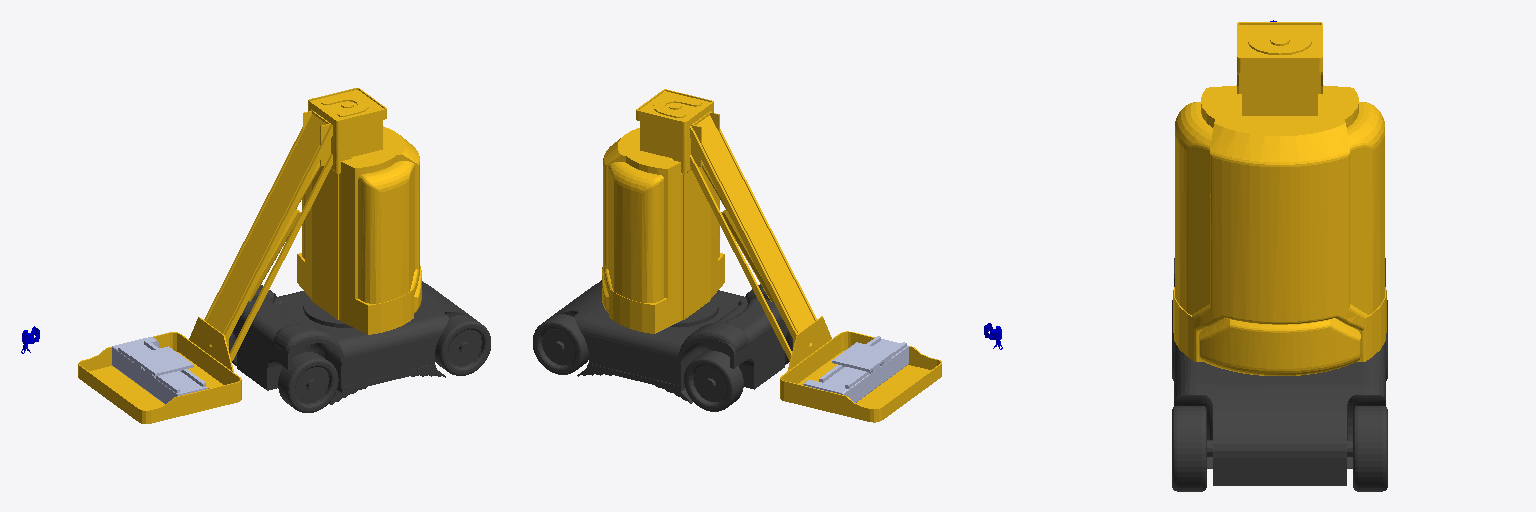
The robot description file, URDF, robot "haullot_start_10":
<?xml version="1.0" encoding="utf-8"?>
<!-- This URDF was automatically created by SolidWorks to URDF Exporter! Originally created by [author] ([email redacted]) 
     Commit Version: 1.6.0-1-g15f4949  Build Version: 1.6.7594.29634
     For more information, please see http://wiki.ros.org/sw_urdf_exporter -->
<robot
  name="haullot_start_10">

<link name="world"/>

<joint
  name="Haullot_start_10_base_link_to_world"
  type="fixed">
  <origin
  xyz="0 0 0.310"
  rpy="1.57079 0 0" />
  <parent
    link="world"/>
  <child
    link="Haullot_start_10_base_link" />
</joint>

<!-- haullot_start_10-->
  <link
    name="Haullot_start_10_base_link">
    <inertial>
      <origin
        xyz="-0.1030630592225 -0.0376347811106098 -0.0421478849065606"
        rpy="0 0 0" />
      <mass
        value="4089.54519378538" />
      <inertia
        ixx="368.031864433595"
        ixy="43.6324734735924"
        ixz="2.94720355246527E-05"
        iyy="1098.47527598676"
        iyz="0.000116486745065062"
        izz="850.867727063988" />
    </inertial>
    <visual>
      <origin
        xyz="0 0 0"
        rpy="0 0 0" />
      <geometry>
        <mesh
          filename="package://haullot_start_10/meshes/Haullot_start_10_base_link.STL" />
      </geometry>
      <material
        name="">
        <color
          rgba="0.298039215686275 0.298039215686275 0.298039215686275 1" />
      </material>
    </visual>
    <collision>
      <origin
        xyz="0 0 0"
        rpy="0 0 0" />
      <geometry>
        <mesh
          filename="package://haullot_start_10/meshes/Haullot_start_10_base_link.STL" />
      </geometry>
    </collision>
  </link>
  <link
    name="Haullot_start_10_rotate_link">
    <inertial>
      <origin
        xyz="0.0622903491933562 0.591502691568246 -5.42612107509721E-07"
        rpy="0 0 0" />
      <mass
        value="4878.86800121507" />
      <inertia
        ixx="826.739753413383"
        ixy="-21.4808409970725"
        ixz="-6.65078087842398E-06"
        iyy="419.339592982064"
        iyz="0.0010799572962618"
        izz="662.937941862686" />
    </inertial>
    <visual>
      <origin
        xyz="0 0 0"
        rpy="0 0 0" />
      <geometry>
        <mesh
          filename="package://haullot_start_10/meshes/Haullot_start_10_rotate_link.STL" />
      </geometry>
      <material
        name="">
        <color
          rgba="1 0.784313725490196 0.133333333333333 1" />
      </material>
    </visual>
    <collision>
      <origin
        xyz="0 0 0"
        rpy="0 0 0" />
      <geometry>
        <mesh
          filename="package://haullot_start_10/meshes/Haullot_start_10_rotate_link.STL" />
      </geometry>
    </collision>
  </link>
  <joint
    name="Haullot_start_10_rotate_joint"
    type="continuous">
    <origin
      xyz="-0.0616024152192241 0.169468785515102 -0.0421478782866078"
      rpy="0 0 0" />
    <parent
      link="Haullot_start_10_base_link" />
    <child
      link="Haullot_start_10_rotate_link" />
    <axis
      xyz="0 1 0" />
    <limit
      lower="-3.1416"
      upper="3.1416"
      effort="0"
      velocity="0" />
  </joint>
  <link
    name="Haullot_start_10_lift_link_1">
    <inertial>
      <origin
        xyz="-3.05730440963714E-12 0.749999999999854 -1.77496906061947E-14"
        rpy="0 0 0" />
      <mass
        value="150.8352" />
      <inertia
        ixx="30.8583680000001"
        ixy="-2.80972202165283E-14"
        ixz="2.81856452577671E-15"
        iyy="5.15353600000001"
        iyz="6.78174074291001E-14"
        izz="30.8583680000001" />
    </inertial>
    <visual>
      <origin
        xyz="0 0 0"
        rpy="0 0 0" />
      <geometry>
        <mesh
          filename="package://haullot_start_10/meshes/Haullot_start_10_lift_link_1.STL" />
      </geometry>
      <material
        name="">
        <color
          rgba="0.666666666666667 0.666666666666667 0.666666666666667 1" />
      </material>
    </visual>
    <collision>
      <origin
        xyz="0 0 0"
        rpy="0 0 0" />
      <geometry>
        <mesh
          filename="package://haullot_start_10/meshes/Haullot_start_10_lift_link_1.STL" />
      </geometry>
    </collision>
  </link>
  <joint
    name="Haullot_start_10_lift_joint_1"
    type="prismatic">
    <origin
      xyz="-0.0665001010517699 -0.00999999999985349 0"
      rpy="0 0 0" />
    <parent
      link="Haullot_start_10_rotate_link" />
    <child
      link="Haullot_start_10_lift_link_1" />
    <axis
      xyz="0 1 0" />
    <limit
      lower="0"
      upper="0.95"
      effort="0"
      velocity="0" />
  </joint>
  <link
    name="Haullot_start_10_lift_link_2">
    <inertial>
      <origin
        xyz="-3.94356769461979E-12 0.749999999999856 3.01494940124769E-14"
        rpy="0 0 0" />
      <mass
        value="127.2672" />
      <inertia
        ixx="25.4110176"
        ixy="-4.12954444879209E-14"
        ixz="1.48431201210719E-15"
        iyy="3.0968352"
        iyz="6.26089868799169E-14"
        izz="25.4110176" />
    </inertial>
    <visual>
      <origin
        xyz="0 0 0"
        rpy="0 0 0" />
      <geometry>
        <mesh
          filename="package://haullot_start_10/meshes/Haullot_start_10_lift_link_2.STL" />
      </geometry>
      <material
        name="">
        <color
          rgba="0.666666666666667 0.666666666666667 0.666666666666667 1" />
      </material>
    </visual>
    <collision>
      <origin
        xyz="0 0 0"
        rpy="0 0 0" />
      <geometry>
        <mesh
          filename="package://haullot_start_10/meshes/Haullot_start_10_lift_link_2.STL" />
      </geometry>
    </collision>
  </link>
  <joint
    name="Haullot_start_10_lift_joint_2"
    type="prismatic">
    <origin
      xyz="0 0 0"
      rpy="0 0 0" />
    <parent
      link="Haullot_start_10_lift_link_1" />
    <child
      link="Haullot_start_10_lift_link_2" />
    <axis
      xyz="0 1 0" />
    <limit
      lower="0"
      upper="0.95"
      effort="0"
      velocity="0" />
  </joint>
  <link
    name="Haullot_start_10_lift_link_3">
    <inertial>
      <origin
        xyz="-5.41863776071239E-12 0.749999999999842 5.42205169651311E-14"
        rpy="0 0 0" />
      <mass
        value="103.6992" />
      <inertia
        ixx="20.2818352"
        ixy="-3.29677594864076E-14"
        ixz="2.94182956951664E-17"
        iyy="1.6764704"
        iyz="4.2625326915756E-14"
        izz="20.2818352" />
    </inertial>
    <visual>
      <origin
        xyz="0 0 0"
        rpy="0 0 0" />
      <geometry>
        <mesh
          filename="package://haullot_start_10/meshes/Haullot_start_10_lift_link_3.STL" />
      </geometry>
      <material
        name="">
        <color
          rgba="0.666666666666667 0.666666666666667 0.666666666666667 1" />
      </material>
    </visual>
    <collision>
      <origin
        xyz="0 0 0"
        rpy="0 0 0" />
      <geometry>
        <mesh
          filename="package://haullot_start_10/meshes/Haullot_start_10_lift_link_3.STL" />
      </geometry>
    </collision>
  </link>
  <joint
    name="Haullot_start_10_lift_joint_3"
    type="prismatic">
    <origin
      xyz="0 0 0"
      rpy="0 0 0" />
    <parent
      link="Haullot_start_10_lift_link_2" />
    <child
      link="Haullot_start_10_lift_link_3" />
    <axis
      xyz="0 1 0" />
    <limit
      lower="0"
      upper="0.95"
      effort="0"
      velocity="0" />
  </joint>
  <link
    name="Haullot_start_10_lift_link_4">
    <inertial>
      <origin
        xyz="-1.72084568816899E-15 0.749999999999999 -1.65145674912992E-15"
        rpy="0 0 0" />
      <mass
        value="80.1312" />
      <inertia
        ixx="15.4119008"
        ixy="3.21993915651729E-14"
        ixz="5.97746071695298E-17"
        iyy="0.774601599999999"
        iyz="3.2586199130364E-14"
        izz="15.4119008" />
    </inertial>
    <visual>
      <origin
        xyz="0 0 0"
        rpy="0 0 0" />
      <geometry>
        <mesh
          filename="package://haullot_start_10/meshes/Haullot_start_10_lift_link_4.STL" />
      </geometry>
      <material
        name="">
        <color
          rgba="0.666666666666667 0.666666666666667 0.666666666666667 1" />
      </material>
    </visual>
    <collision>
      <origin
        xyz="0 0 0"
        rpy="0 0 0" />
      <geometry>
        <mesh
          filename="package://haullot_start_10/meshes/Haullot_start_10_lift_link_4.STL" />
      </geometry>
    </collision>
  </link>
  <joint
    name="Haullot_start_10_lift_joint_4"
    type="prismatic">
    <origin
      xyz="0 0 0"
      rpy="0 0 0" />
    <parent
      link="Haullot_start_10_lift_link_3" />
    <child
      link="Haullot_start_10_lift_link_4" />
    <axis
      xyz="0 1 0" />
    <limit
      lower="0"
      upper="0.95"
      effort="0"
      velocity="0" />
  </joint>
  <link
    name="Haullot_start_10_loading_device">
    <inertial>
      <origin
        xyz="0.676066587615475 0.706783134841028 9.24589964798606E-08"
        rpy="0 0 0" />
      <mass
        value="421.499820519036" />
      <inertia
        ixx="181.385447789709"
        ixy="-128.349054222057"
        ixz="-2.47209782798231E-05"
        iyy="125.946602914178"
        iyz="-2.92355053794222E-05"
        izz="277.914039031505" />
    </inertial>
    <visual>
      <origin
        xyz="0 0 0"
        rpy="0 0 0" />
      <geometry>
        <mesh
          filename="package://haullot_start_10/meshes/Haullot_start_10_loading_device.STL" />
      </geometry>
      <material
        name="">
        <color
          rgba="1 0.784313725490196 0.133333333333333 1" />
      </material>
    </visual>
    <collision>
      <origin
        xyz="0 0 0"
        rpy="0 0 0" />
      <geometry>
        <mesh
          filename="package://haullot_start_10/meshes/Haullot_start_10_loading_device.STL" />
      </geometry>
    </collision>
  </link>
  <joint
    name="Haullot_start_10_loading_device_fix_joint"
    type="fixed">
    <origin
      xyz="-1.4729533420782 -0.255610438701392 0"
      rpy="0 0 0" />
    <parent
      link="Haullot_start_10_lift_link_4" />
    <child
      link="Haullot_start_10_loading_device" />
    <axis
      xyz="0 0 0" />
  </joint>
<!-- haullot_start_10 end -->

<joint
name="Haullot_start_10_loading_device_to_guide_rail"
type="fixed">
<origin
  xyz="0 0 0.02"
  rpy="0 -1.57079 0" />
<parent
  link="Haullot_start_10_loading_device" />
<child
  link="guide_rail_base_link" />
<axis
  xyz="0 0 0" />
</joint>

<!-- guide rail -->
<link
    name="guide_rail_base_link">
    <inertial>
      <origin
        xyz="-0.030425 0.077875 -0.0058412"
        rpy="0 0 0" />
      <mass
        value="33.989" />
      <inertia
        ixx="0.22428"
        ixy="-1.3416E-17"
        ixz="-3.2573E-18"
        iyy="1.621"
        iyz="8.3194E-19"
        izz="1.5184" />
    </inertial>
    <visual>
      <origin
        xyz="0 0 0"
        rpy="0 0 0" />
      <geometry>
        <mesh
          filename="package://haullot_start_10/meshes/guide_rail_base_link.STL" />
      </geometry>
      <material
        name="">
        <color
          rgba="0.79216 0.81961 0.93333 1" />
      </material>
    </visual>
    <collision>
      <origin
        xyz="0 0 0"
        rpy="0 0 0" />
      <geometry>
        <mesh
          filename="package://haullot_start_10/meshes/guide_rail_base_link.STL" />
      </geometry>
    </collision>
  </link>
  <link
    name="guide_rail_Link">
    <inertial>
      <origin
        xyz="1.7347E-18 -0.016966 2.8936E-18"
        rpy="0 0 0" />
      <mass
        value="2.9064" />
      <inertia
        ixx="0.016095"
        ixy="1.6922E-20"
        ixz="1.9079E-18"
        iyy="0.036256"
        iyz="2.3031E-20"
        izz="0.020446" />
    </inertial>
    <visual>
      <origin
        xyz="0 0 0"
        rpy="0 0 0" />
      <geometry>
        <mesh
          filename="package://haullot_start_10/meshes/guide_rail_Link.STL" />
      </geometry>
      <material
        name="">
        <color
          rgba="0.79216 0.81961 0.93333 1" />
      </material>
    </visual>
    <collision>
      <origin
        xyz="0 0 0"
        rpy="0 0 0" />
      <geometry>
        <mesh
          filename="package://haullot_start_10/meshes/guide_rail_Link.STL" />
      </geometry>
    </collision>
  </link>
  <joint
    name="guide_rail_sliding_joint"
    type="prismatic">
    <origin
      xyz="0.01 0.212 0"
      rpy="0 0 0" />
    <parent
      link="guide_rail_base_link" />
    <child
      link="guide_rail_Link" />
    <axis
      xyz="1 0 0" />
    <limit
      lower="-0.28"
      upper="0.28"
      effort="0"
      velocity="0" />
  </joint>
<!-- guide rail end -->

<joint
name="guide_rail_Link_to_kuka_r900"
type="fixed">
<origin
  xyz="0 0 0"
  rpy="-1.57079 -1.57079 0" />
<parent
  link="guide_rail_Link" />
<child
  link="base_link" />
<axis
  xyz="1 0 0" />
</joint>

<!-- kuka r900 robot -->
<link name="base_link">
  <visual>
    <origin rpy="0 0 0" xyz="0 0 0"/>
    <geometry>
      <mesh filename="package://haullot_start_10/meshes/kr6_agilus/visual/base_link.dae"/>
    </geometry>
    <material name="">
      <color rgba="0.505882352941 0.470588235294 0.388235294118 1.0"/>
    </material>
  </visual>
  <collision>
    <origin rpy="0 0 0" xyz="0 0 0"/>
    <geometry>
      <mesh filename="package://haullot_start_10/meshes/kr6_agilus/collision/base_link.stl"/>
    </geometry>
  </collision>
</link>
<link name="link_1">
  <visual>
    <origin rpy="0 0 0" xyz="0 0 0"/>
    <geometry>
      <mesh filename="package://haullot_start_10/meshes/kr6_agilus/visual/link_1.dae"/>
    </geometry>
    <material name="">
      <color rgba="0.964705882353 0.470588235294 0.156862745098 1.0"/>
    </material>
  </visual>
  <collision>
    <origin rpy="0 0 0" xyz="0 0 0"/>
    <geometry>
      <mesh filename="package://haullot_start_10/meshes/kr6_agilus/collision/link_1.stl"/>
    </geometry>
  </collision>
</link>
<link name="link_2">
  <visual>
    <origin rpy="0 0 0" xyz="0 0 0"/>
    <geometry>
      <mesh filename="package://haullot_start_10/meshes/kr6r900sixx/visual/link_2.dae"/>
    </geometry>
    <material name="">
      <color rgba="0.964705882353 0.470588235294 0.156862745098 1.0"/>
    </material>
  </visual>
  <collision>
    <origin rpy="0 0 0" xyz="0 0 0"/>
    <geometry>
      <mesh filename="package://haullot_start_10/meshes/kr6r900sixx/collision/link_2.stl"/>
    </geometry>
  </collision>
</link>
<link name="link_3">
  <visual>
    <origin rpy="0 0 0" xyz="0 0 0"/>
    <geometry>
      <mesh filename="package://haullot_start_10/meshes/kr6_agilus/visual/link_3.dae"/>
    </geometry>
    <material name="">
      <color rgba="0.964705882353 0.470588235294 0.156862745098 1.0"/>
    </material>
  </visual>
  <collision>
    <origin rpy="0 0 0" xyz="0 0 0"/>
    <geometry>
      <mesh filename="package://haullot_start_10/meshes/kr6_agilus/collision/link_3.stl"/>
    </geometry>
  </collision>
</link>
<link name="link_4">
  <visual>
    <origin rpy="0 0 0" xyz="0 0 0"/>
    <geometry>
      <mesh filename="package://haullot_start_10/meshes/kr6r900sixx/visual/link_4.dae"/>
    </geometry>
    <material name="">
      <color rgba="0.964705882353 0.470588235294 0.156862745098 1.0"/>
    </material>
  </visual>
  <collision>
    <origin rpy="0 0 0" xyz="0 0 0"/>
    <geometry>
      <mesh filename="package://haullot_start_10/meshes/kr6r900sixx/collision/link_4.stl"/>
    </geometry>
  </collision>
</link>
<link name="link_5">
  <visual>
    <origin rpy="0 0 0" xyz="0 0 0"/>
    <geometry>
      <mesh filename="package://haullot_start_10/meshes/kr6_agilus/visual/link_5.dae"/>
    </geometry>
    <material name="">
      <color rgba="0.964705882353 0.470588235294 0.156862745098 1.0"/>
    </material>
  </visual>
  <collision>
    <origin rpy="0 0 0" xyz="0 0 0"/>
    <geometry>
      <mesh filename="package://haullot_start_10/meshes/kr6_agilus/collision/link_5.stl"/>
    </geometry>
  </collision>
</link>
<link name="link_6">
  <visual>
    <origin rpy="0 0 0" xyz="0 0 0"/>
    <geometry>
      <mesh filename="package://haullot_start_10/meshes/kr6_agilus/visual/link_6.dae"/>
    </geometry>
    <material name="">
      <color rgba="0.505882352941 0.470588235294 0.388235294118 1.0"/>
    </material>
  </visual>
  <collision>
    <origin rpy="0 0 0" xyz="0 0 0"/>
    <geometry>
      <mesh filename="package://haullot_start_10/meshes/kr6_agilus/collision/link_6.stl"/>
    </geometry>
  </collision>
</link>
<!-- This frame corresponds to the $FLANGE coordinate system in KUKA KRC controllers. -->
<link name="tool0"/>
<joint name="joint_a1" type="revolute">
  <origin rpy="0 0 0" xyz="0 0 0.400"/>
  <parent link="base_link"/>
  <child link="link_1"/>
  <axis xyz="0 0 -1"/>
  <limit effort="0" lower="-2.96705972839" upper="2.96705972839" velocity="6.28318530718"/>
</joint>
<joint name="joint_a2" type="revolute">
  <origin rpy="0 0 0" xyz="0.025 0 0"/>
  <parent link="link_1"/>
  <child link="link_2"/>
  <axis xyz="0 1 0"/>
  <limit effort="0" lower="-3.31612557879" upper="0.785398163397" velocity="5.23598775598"/>
</joint>
<joint name="joint_a3" type="revolute">
  <origin rpy="0 0 0" xyz="0.455 0 0"/>
  <parent link="link_2"/>
  <child link="link_3"/>
  <axis xyz="0 1 0"/>
  <limit effort="0" lower="-2.09439510239" upper="2.72271363311" velocity="6.28318530718"/>
</joint>
<joint name="joint_a4" type="revolute">
  <origin rpy="0 0 0" xyz="0 0 0.035"/>
  <parent link="link_3"/>
  <child link="link_4"/>
  <axis xyz="-1 0 0"/>
  <limit effort="0" lower="-3.22885911619" upper="3.22885911619" velocity="6.6497044501"/>
</joint>
<joint name="joint_a5" type="revolute">
  <origin rpy="0 0 0" xyz="0.420 0 0"/>
  <parent link="link_4"/>
  <child link="link_5"/>
  <axis xyz="0 1 0"/>
  <limit effort="0" lower="-2.09439510239" upper="2.09439510239" velocity="6.77187749774"/>
</joint>
<joint name="joint_a6" type="revolute">
  <origin rpy="0 0 0" xyz="0.080 0 0"/>
  <parent link="link_5"/>
  <child link="link_6"/>
  <axis xyz="-1 0 0"/>
  <limit effort="0" lower="-6.10865238198" upper="6.10865238198" velocity="10.7337748998"/>
</joint>
<joint name="joint_a6-tool0" type="fixed">
  <parent link="link_6"/>
  <child link="tool0"/>
  <origin rpy="0 1.57079632679 0" xyz="0 0 0"/>
</joint>
<!-- ROS base_link to KUKA $ROBROOT coordinate system transform -->
<link name="base"/>
<joint name="base_link-base" type="fixed">
  <origin rpy="0 0 0" xyz="0 0 0"/>
  <parent link="base_link"/>
  <child link="base"/>
</joint>
<!-- kuka r900 robot end -->

<joint name="kuka_r900_to_sprayer" type="fixed">
  <origin rpy="1.57079 0 0" xyz="0 0 0"/>
  <parent link="tool0"/>
  <child link="sprayer_base_link"/>
</joint>

<!-- sprayer -->
<link
    name="sprayer_base_link">
    <inertial>
      <origin
        xyz="0.019037 0.01586 7.0801E-05"
        rpy="0 0 0" />
      <mass
        value="0.025346" />
      <inertia
        ixx="2.1907E-05"
        ixy="-5.58E-06"
        ixz="-5.1033E-08"
        iyy="3.2812E-05"
        iyz="-2.5513E-08"
        izz="2.1331E-05" />
    </inertial>
    <visual>
      <origin
        xyz="0 0 0"
        rpy="0 0 0" />
      <geometry>
        <mesh
          filename="package://haullot_start_10/meshes/sprayer_base_link.STL" />
      </geometry>
      <material name="">
        <color rgba="0 0 1 1.0"/>
      </material>
    </visual>
    <collision>
      <origin
        xyz="0 0 0"
        rpy="0 0 0" />
      <geometry>
        <mesh
          filename="package://haullot_start_10/meshes/sprayer_base_link.STL" />
      </geometry>
    </collision>
  </link>
  <link
    name="sprayer_Link">
    <inertial>
      <origin
        xyz="-0.069035 -0.011363 9.0848E-08"
        rpy="0 0 0" />
      <mass
        value="0.25136" />
      <inertia
        ixx="6.009E-05"
        ixy="7.498E-07"
        ixz="4.7205E-09"
        iyy="0.00013161"
        iyz="-6.5804E-10"
        izz="0.00012743" />
    </inertial>
    <visual>
      <origin
        xyz="0 0 0"
        rpy="0 0 0" />
      <geometry>
        <mesh
          filename="package://haullot_start_10/meshes/sprayer_Link.STL" />
      </geometry>
      <material name="">
        <color rgba="0 0 1 1.0"/>
      </material>
    </visual>
    <collision>
      <origin
        xyz="0 0 0"
        rpy="0 0 0" />
      <geometry>
        <mesh
          filename="package://haullot_start_10/meshes/sprayer_Link.STL" />
      </geometry>
    </collision>
  </link>
  <joint
    name="sprayer_fix_joint"
    type="fixed">
    <origin
      xyz="0.10032 0.09026 0"
      rpy="0 0 0" />
    <parent
      link="sprayer_base_link" />
    <child
      link="sprayer_Link" />
    <axis
      xyz="0 0 0" />
    <limit
      lower="0"
      upper="0"
      effort="0"
      velocity="0" />
  </joint>
<!-- sprayer end -->
</robot>

--- What the picture shows (computed from the rendered views, not written in the file) ---
Views: 3 orthographic renders of the robot side by side, from view 1: azimuth 30°, elevation 25°; view 2: azimuth 150°, elevation 25°; view 3: azimuth 270°, elevation 25°.
Model haullot_start_10 with 21 links and 20 joints (6 revolute, 1 continuous, 5 prismatic, 8 fixed), rooted at world, posed all joints at 0.
Links seen in each view (by area): view 1: Haullot_start_10_loading_device, Haullot_start_10_rotate_link, Haullot_start_10_base_link, guide_rail_base_link, guide_rail_Link; view 2: Haullot_start_10_loading_device, Haullot_start_10_rotate_link, Haullot_start_10_base_link, guide_rail_base_link, guide_rail_Link; view 3: Haullot_start_10_rotate_link, Haullot_start_10_base_link, Haullot_start_10_loading_device.
Boxes of the visible links, box(x1,y1,x2,y2) form: Haullot_start_10_loading_device: box(78, 88, 386, 423); Haullot_start_10_rotate_link: box(297, 121, 421, 334); Haullot_start_10_base_link: box(229, 281, 490, 412); guide_rail_base_link: box(112, 337, 208, 404); guide_rail_Link: box(130, 346, 193, 377); Haullot_start_10_loading_device: box(636, 89, 941, 422); Haullot_start_10_rotate_link: box(602, 122, 724, 333); Haullot_start_10_base_link: box(533, 280, 792, 411); guide_rail_base_link: box(803, 336, 908, 402); guide_rail_Link: box(832, 342, 894, 373); Haullot_start_10_rotate_link: box(1173, 73, 1386, 375); Haullot_start_10_base_link: box(1172, 258, 1387, 491); Haullot_start_10_loading_device: box(1237, 22, 1322, 93).
Size in the robot's own frame: 3.42 by 1 by 1.99 metres.
11 mesh visuals loaded from 18 distinct referenced files (11 binary STL); not drawn: 7 (reference not matched to a file when rendering).
